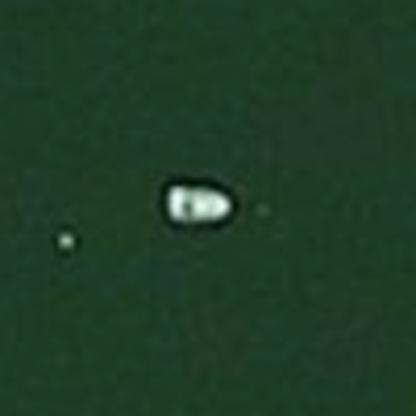ship: (149, 168, 247, 236)
